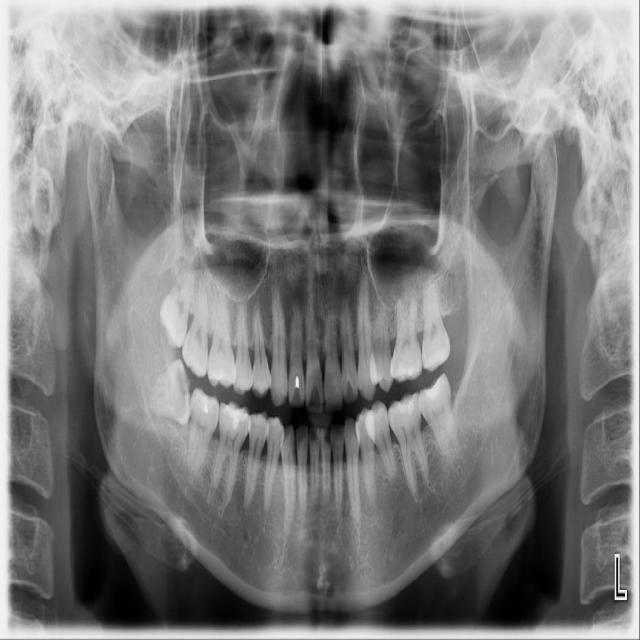Filling: (223, 404, 250, 430), (395, 398, 421, 417), (196, 391, 216, 414), (292, 372, 303, 393)
impacted tooth: (160, 261, 195, 346), (146, 359, 190, 422)
